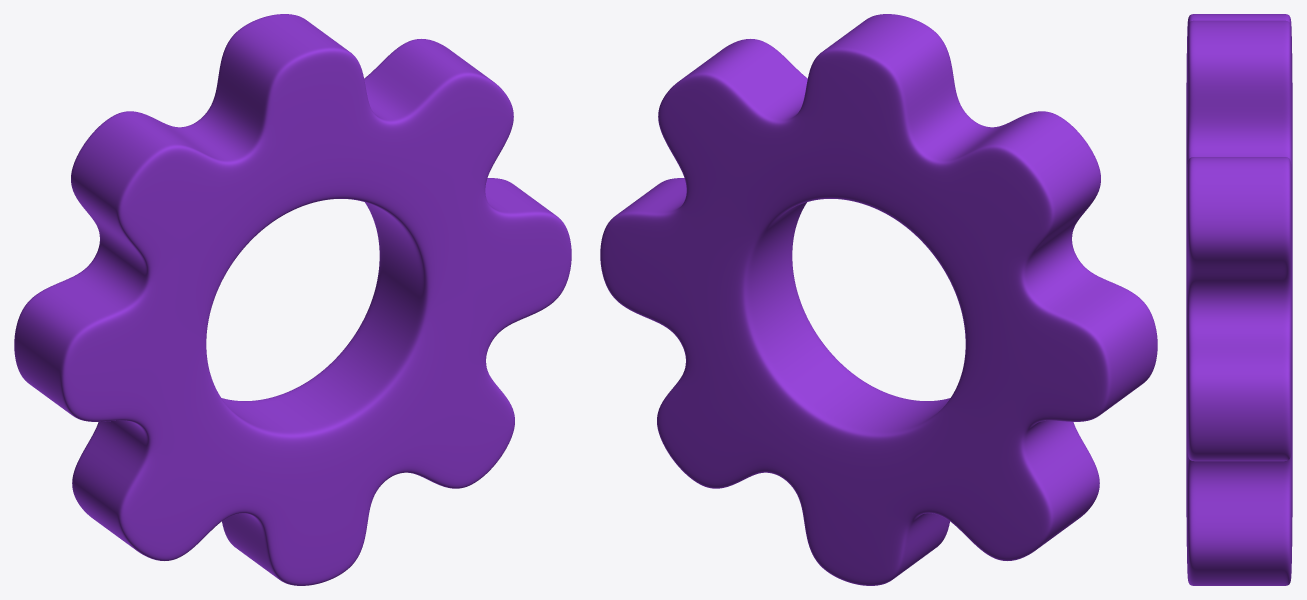
File: setting.fbx
The picture shows the model from 3 angles, left to right: view 1: azimuth 30°, elevation 25°; view 2: azimuth 150°, elevation 25°; view 3: azimuth 270°, elevation 25°; orthographic projection.
Visible parts, largest first — view 1: Circle; view 2: Circle; view 3: Circle.
Part boxes in pixels (box(x1,y1,x2,y2)): Circle: box(14, 14, 571, 585); Circle: box(600, 14, 1157, 585); Circle: box(1186, 14, 1292, 585).
Bounding box in the file's own units: 190 × 190 × 33.77.
